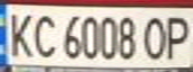0: (78, 11, 100, 61), (100, 12, 121, 61)
6: (57, 11, 81, 61)
8: (115, 11, 142, 61)
C: (27, 10, 60, 60)
K: (3, 9, 36, 60)
O: (139, 12, 172, 61)
P: (160, 11, 193, 61)
